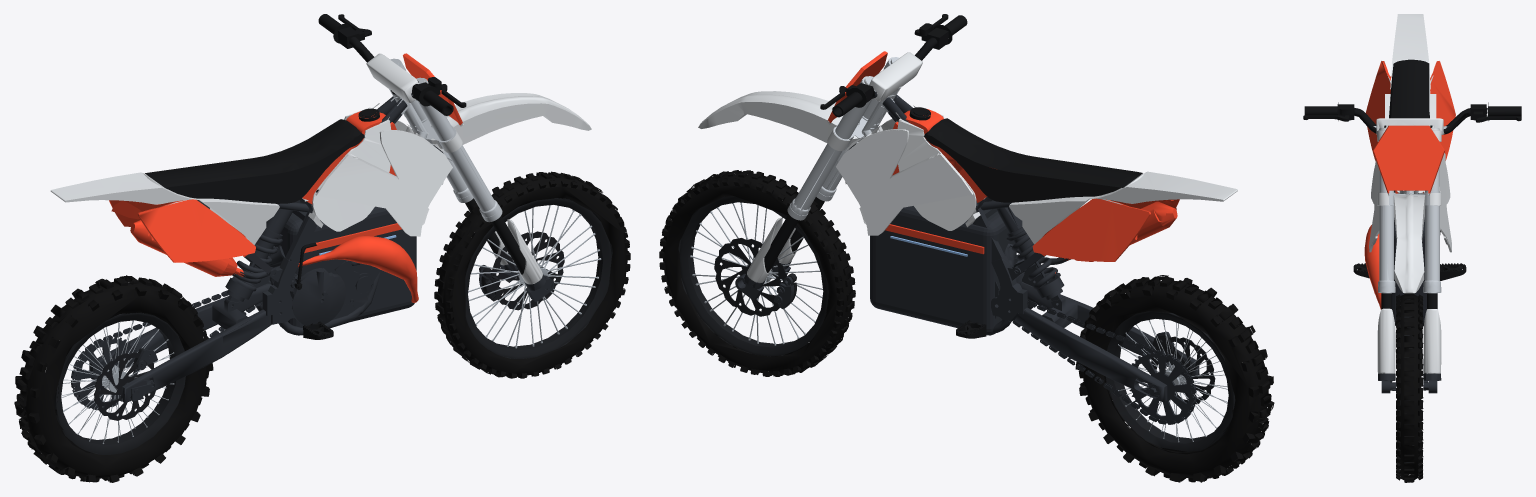
The model's file is pro.glb.
The picture shows the model from 3 angles, left to right: view 1: azimuth 30°, elevation 25°; view 2: azimuth 150°, elevation 25°; view 3: azimuth 270°, elevation 25°; orthographic projection. The views are drawn at different scales.
Visible parts, largest first — view 1: Object_13, Object_15, Object_3, Object_2, Object_14, Object_12, GT_battery, Object_11, Object_16, Object_4, Object_5, Object_10 (+2 smaller); view 2: Object_13, Object_15, Object_3, GT_battery, Object_14, Object_2, Object_12, Object_11, Object_4, Object_7, Object_6, Object_16 (+3 smaller); view 3: Object_15, Object_12, Object_14, Object_13, Object_5, Object_7, Object_16, GT_battery, Object_6, Object_3, Object_4.
Part boxes in pixels (<box>): Object_13: <box>14,171,630,482</box>; Object_15: <box>50,53,591,284</box>; Object_3: <box>71,93,554,410</box>; Object_2: <box>54,198,612,454</box>; Object_14: <box>145,14,525,339</box>; Object_12: <box>109,53,462,262</box>; GT_battery: <box>270,201,416,327</box>; Object_11: <box>61,205,601,443</box>; Object_16: <box>130,220,418,302</box>; Object_4: <box>72,246,517,408</box>; Object_5: <box>400,62,499,213</box>; Object_10: <box>302,111,396,204</box>; Object_13: <box>659,170,1274,482</box>; Object_15: <box>698,52,1237,282</box>; Object_3: <box>772,91,1199,424</box>; GT_battery: <box>870,201,1016,335</box>; Object_14: <box>764,14,1142,338</box>; Object_2: <box>678,196,1235,451</box>; Object_12: <box>828,51,1179,261</box>; Object_11: <box>690,202,1227,442</box>; Object_4: <box>735,143,1194,423</box>; Object_7: <box>787,76,878,220</box>; Object_6: <box>816,57,900,201</box>; Object_16: <box>1055,200,1177,273</box>; Object_15: <box>1369,14,1451,373</box>; Object_12: <box>1366,61,1455,193</box>; Object_14: <box>1303,59,1521,308</box>; Object_13: <box>1396,293,1423,482</box>; Object_5: <box>1378,130,1440,286</box>; Object_7: <box>1423,125,1446,292</box>; Object_16: <box>1364,76,1391,309</box>; GT_battery: <box>1392,190,1426,326</box>; Object_6: <box>1373,125,1439,293</box>; Object_3: <box>1378,126,1449,393</box>; Object_4: <box>1423,222,1441,393</box>.
Size of the model in its own units: 2.14 by 1.19 by 0.761.
